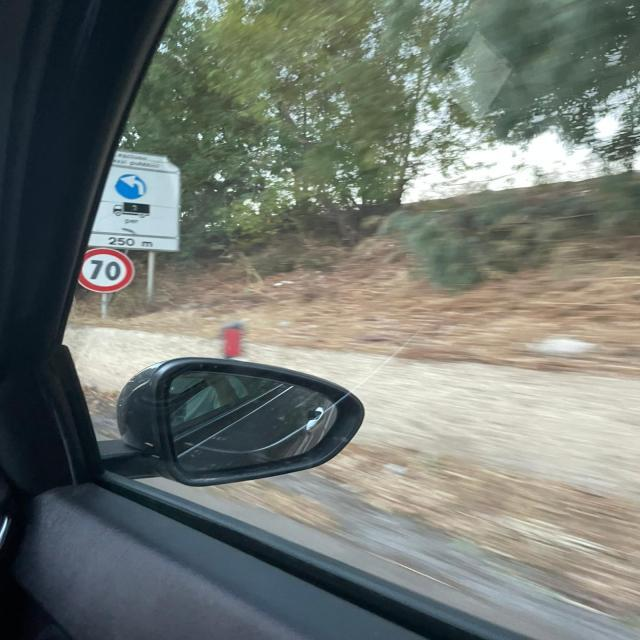forb_speed_over_70: (78, 244, 137, 297)
